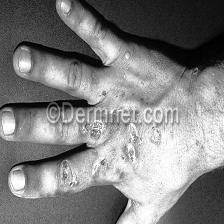Benign Marking or Mole: (126, 124, 139, 162), (79, 124, 105, 141), (150, 127, 162, 147), (60, 161, 70, 182)
